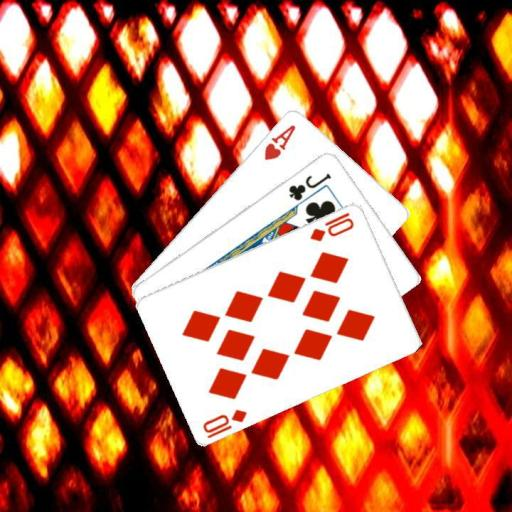10D: (307, 209, 356, 243), (200, 406, 249, 440)
AH: (261, 121, 298, 162)
JC: (285, 169, 333, 202)
